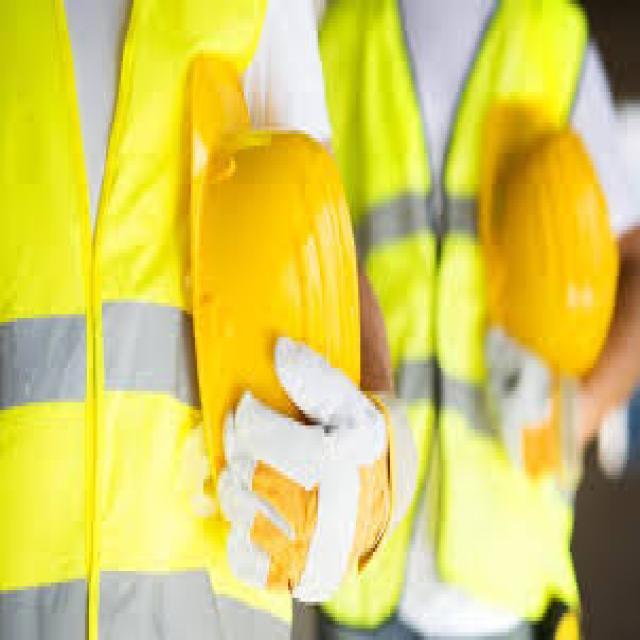Reflective-Jacket: (0, 0, 299, 637), (316, 4, 614, 617)
Safety-Helmet: (176, 49, 370, 520), (477, 119, 625, 379)
